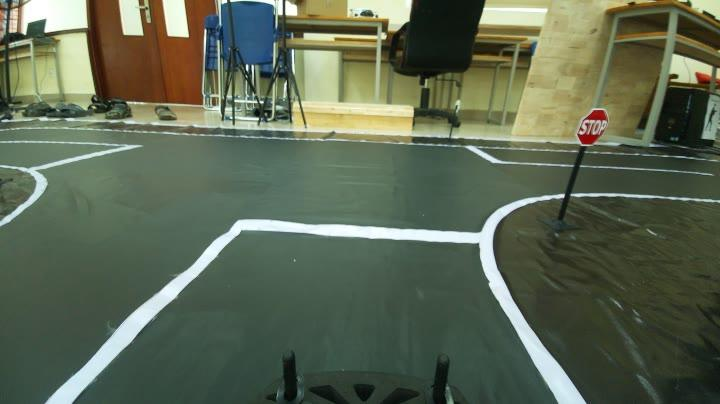stop: (574, 106, 604, 146)
